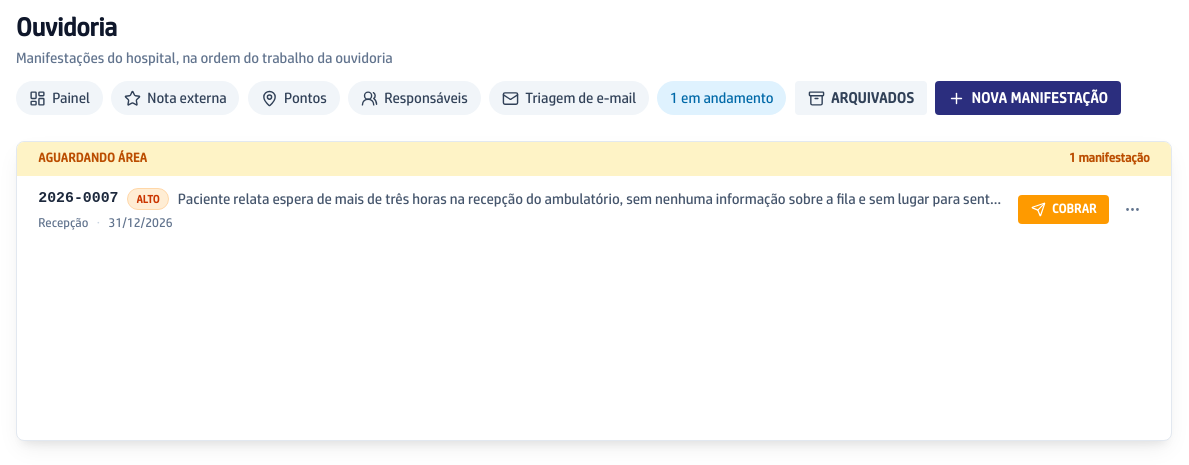
cobrar é acordar o setor de novo (RN-74, issue #536) › a recusa do servidor chega ao ouvidor com a frase do servidor
Check: the text "2026-0007" is shown, box [38, 188, 119, 210]
Click the button "Cobrar". click: (1064, 210)
box: [1018, 195, 1109, 224]
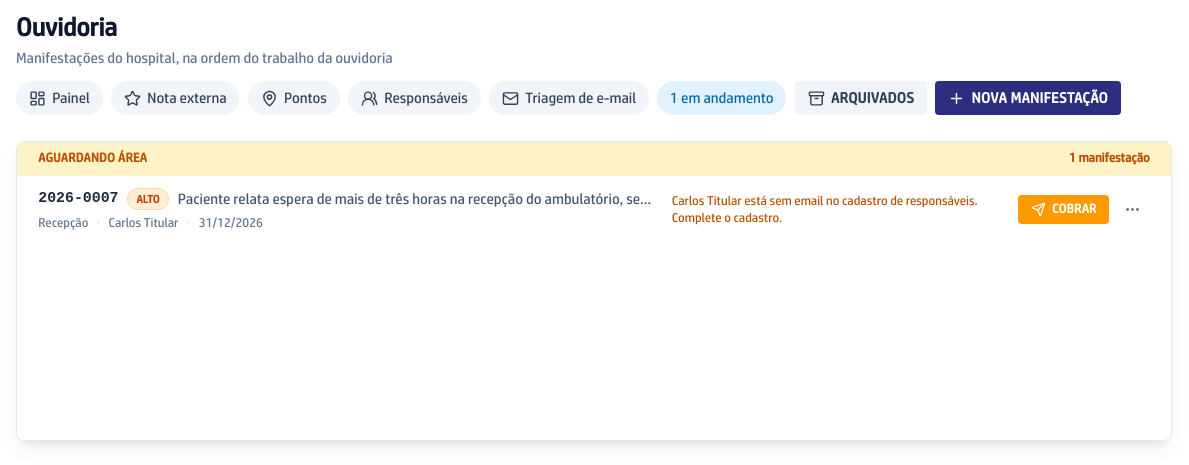
Check: the text "sem email no cadastro de responsáveis" is shown, box [672, 193, 978, 225]
